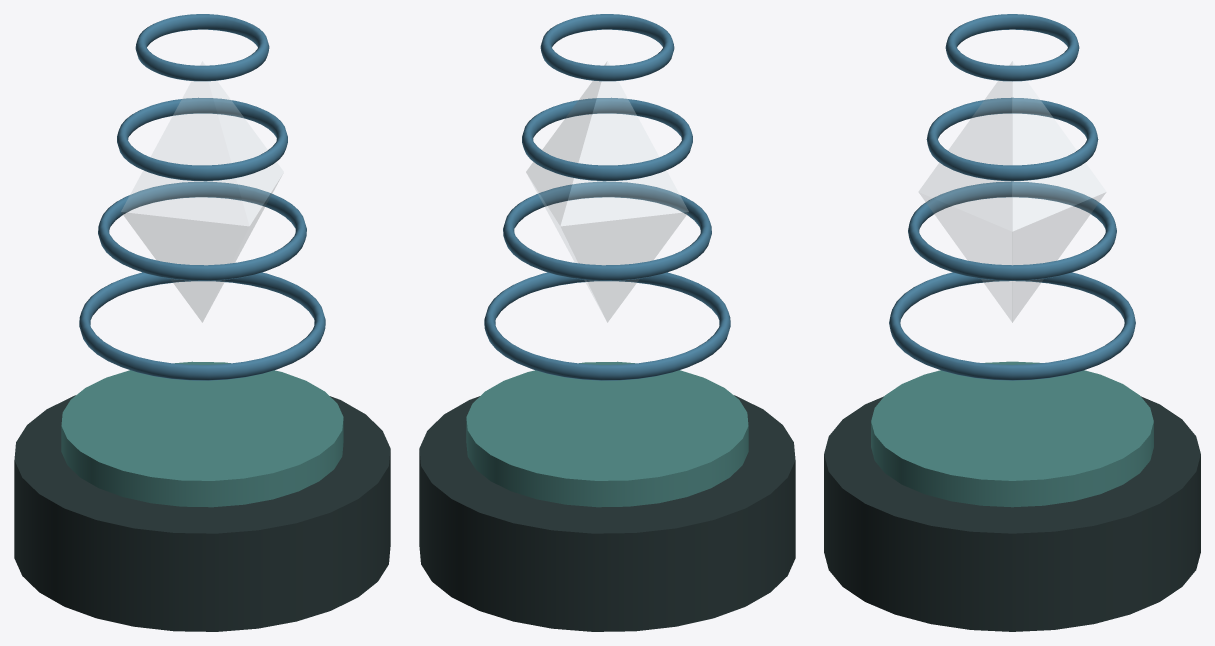
The model's file is wp-console-holographique.glb.
3 renders of one model, left to right at view 1: azimuth 30°, elevation 25°; view 2: azimuth 150°, elevation 25°; view 3: azimuth 270°, elevation 25°, orthographic.
Visible parts, largest first — view 1: wp-console-holographique; view 2: wp-console-holographique; view 3: wp-console-holographique.
Boxes of the visible parts, bbox=[...] form: wp-console-holographique: bbox=[14, 14, 390, 631]; wp-console-holographique: bbox=[419, 14, 795, 631]; wp-console-holographique: bbox=[824, 14, 1200, 631].
Bounding box in the file's own units: 0.8 × 1.2 × 0.8.
